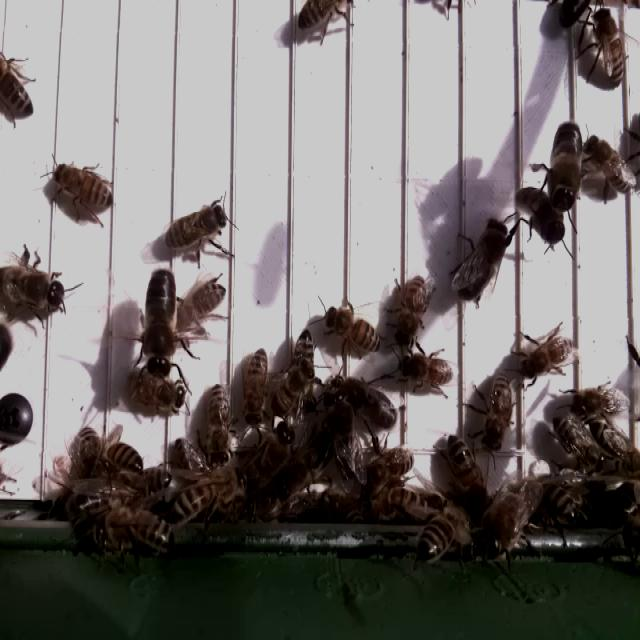Drone: (454, 211, 511, 308), (139, 263, 178, 383), (328, 375, 400, 432), (545, 115, 584, 212), (0, 262, 68, 314)
Worker: (586, 5, 629, 91), (163, 202, 230, 255), (50, 161, 118, 212), (442, 432, 488, 506), (584, 134, 635, 200), (319, 304, 383, 354), (562, 381, 632, 426), (393, 271, 430, 351), (516, 334, 578, 381), (482, 368, 514, 454), (206, 378, 235, 465), (245, 344, 270, 436), (396, 350, 454, 389), (0, 62, 37, 118)
